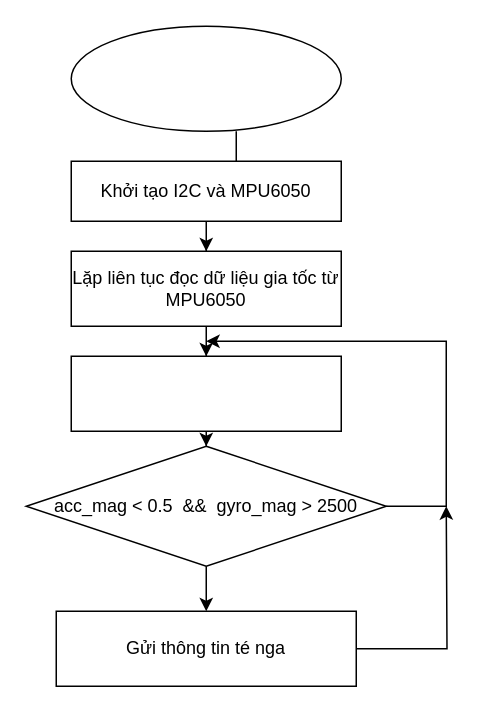
The diagram is 486 pixels wide and 713 high, and some of its shapes have lost their labels. Each missing label, with the box of its shape:
START: (70, 25, 341, 131)
Tính toán độ lướn tổng hợp (acc_mag, gyro_mag): (70, 355, 341, 431)
